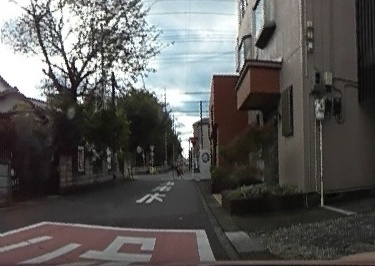person: (173, 152, 183, 177)
